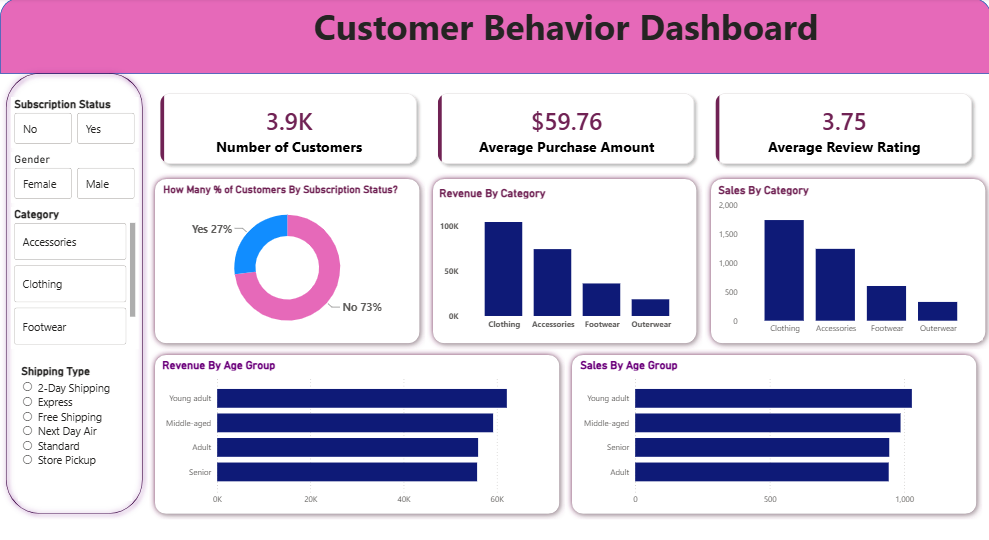

This screenshot's page, from the dashboard's own definition file:
{"tool":"powerbi","page":{"name":"Page 1","canvas":[1500,820],"ordinal":0},"visuals":[{"type":"cardVisual","fields":{"Data":["public customer.Number of Customers","public customer.Average Purchase Amount","public customer.Average Review Rating"]},"box":[213.3,115,1286.7,165],"z":0},{"type":"shape","box":[0,0,1500,115],"z":1000},{"type":"textbox","box":[213.3,0,1286.7,105],"z":2000},{"type":"shape","box":[646.7,265,416.7,266.7],"z":5000},{"type":"clusteredColumnChart","title":"Revenue By Category","fields":{"Category":["public customer.category"],"Y":["Sum(public customer.purchase_amount)"]},"box":[660,285,390,226.7],"z":6000},{"type":"shape","box":[0,105,225,685],"z":7000},{"type":"advancedSlicerVisual","title":"Subscription Status","fields":{"Values":["public customer.subscription_status"]},"box":[16.7,150,193.3,76.7],"z":8000},{"type":"advancedSlicerVisual","title":"Gender","fields":{"Values":["public customer.gender"]},"box":[16.7,233.3,193.3,76.7],"z":9000},{"type":"advancedSlicerVisual","title":"Category","fields":{"Values":["public customer.category"]},"box":[16.7,316.7,193.3,215],"z":10000},{"type":"listSlicer","fields":{"Values":["public customer.shipping_type"]},"box":[26.7,553.3,173.3,206.7],"z":11000},{"type":"shape","box":[225,531.7,630,258.3],"z":13000},{"type":"shape","box":[225,265,418.3,266.7],"z":14000},{"type":"shape","box":[1066.7,265,433.3,266.7],"z":15000},{"type":"clusteredColumnChart","title":"Sales By Category","fields":{"Category":["public customer.category"],"Y":["CountNonNull(public customer.customer_id)"]},"box":[1081.7,280,405,238.3],"z":16000},{"type":"donutChart","title":"How Many % of Customers By Subscription  Status? ","fields":{"Y":["CountNonNull(public customer.customer_id)"],"Category":["public customer.subscription_status"]},"box":[241.7,280,385,238.3],"z":16001},{"type":"shape","box":[856.7,531.7,630,258.3],"z":16002},{"type":"clusteredBarChart","title":"Revenue By Age Group","fields":{"Y":["Sum(public customer.purchase_amount)"],"Category":["public customer.age_group"]},"box":[240,545,596.7,231.7],"z":16003},{"type":"clusteredBarChart","title":"Sales By Age Group","fields":{"Y":["CountNonNull(public customer.customer_id)"],"Category":["public customer.age_group"]},"box":[873.3,545,596.7,231.7],"z":16004}]}

Visuals, with their boxes in screenshot pixels (x1, y1, x2, y2), scaled from the page's 1500x820 canvas onto the 989x540 screenshot:
cardVisual - public customer.Number of Customers x public customer.Average Purchase Amount: (left=141, top=76, right=988, bottom=184)
shape: (left=0, top=0, right=988, bottom=76)
textbox: (left=141, top=0, right=988, bottom=69)
shape: (left=426, top=175, right=701, bottom=350)
"Revenue By Category" clusteredColumnChart: (left=435, top=188, right=692, bottom=337)
shape: (left=0, top=69, right=148, bottom=520)
"Subscription Status" advancedSlicerVisual: (left=11, top=99, right=138, bottom=149)
"Gender" advancedSlicerVisual: (left=11, top=154, right=138, bottom=204)
"Category" advancedSlicerVisual: (left=11, top=209, right=138, bottom=350)
listSlicer - public customer.shipping_type: (left=18, top=364, right=132, bottom=500)
shape: (left=148, top=350, right=564, bottom=520)
shape: (left=148, top=175, right=424, bottom=350)
shape: (left=703, top=175, right=988, bottom=350)
"Sales By Category" clusteredColumnChart: (left=713, top=184, right=980, bottom=341)
"How Many % of Customers By Subscription  Status? " donutChart: (left=159, top=184, right=413, bottom=341)
shape: (left=565, top=350, right=980, bottom=520)
"Revenue By Age Group" clusteredBarChart: (left=158, top=359, right=552, bottom=511)
"Sales By Age Group" clusteredBarChart: (left=576, top=359, right=969, bottom=511)
